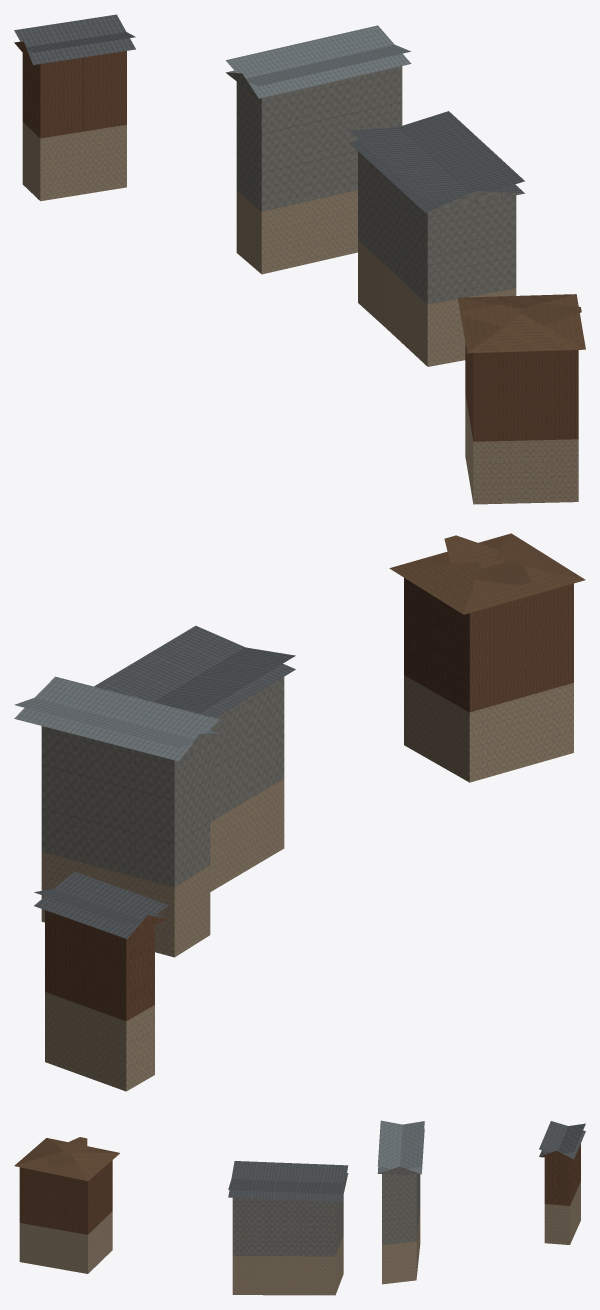
Rendered from bld_c23_-48_531.gltf.
The picture shows the model from 3 angles, top to bottom: view 1: azimuth 30°, elevation 25°; view 2: azimuth 150°, elevation 25°; view 3: azimuth 270°, elevation 25°; orthographic projection. The views are drawn at different scales.
Parts seen in each view (by area): view 1: bld_c23_-48_531; view 2: bld_c23_-48_531; view 3: bld_c23_-48_531.
Part boxes in pixels (x1,y1,x2,y2): bld_c23_-48_531: (14, 14, 585, 504); bld_c23_-48_531: (14, 533, 585, 1091); bld_c23_-48_531: (14, 1120, 585, 1295).
Bounding box in the file's own units: 21.12 × 17.2 × 67.46.
Materials: 8 (8 with a texture image).
